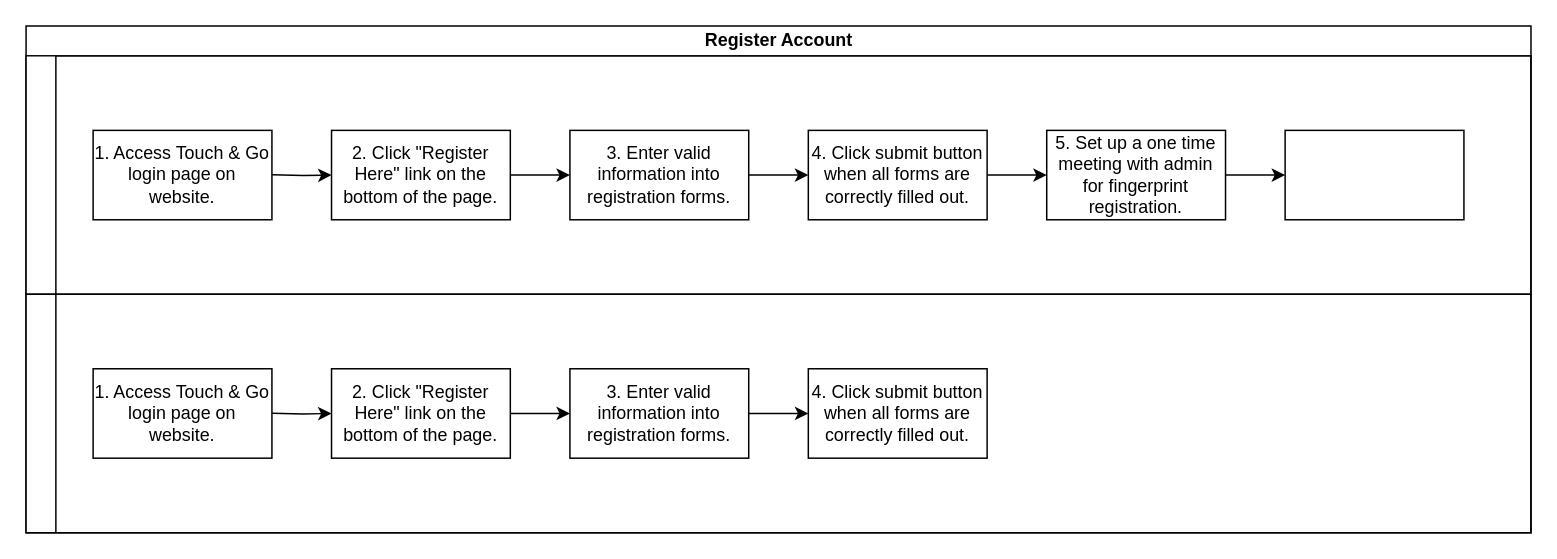
This 1557x559 diagram has some shape labels left out. Here are the shapes that lost their labels. From the top down, the box of each, then its label:
(25, 54, 1531, 294): Student
(1284, 129, 1464, 220): 6. Attend the one time admin meeting for fingerprint registration.
(25, 293, 1531, 533): Professor
